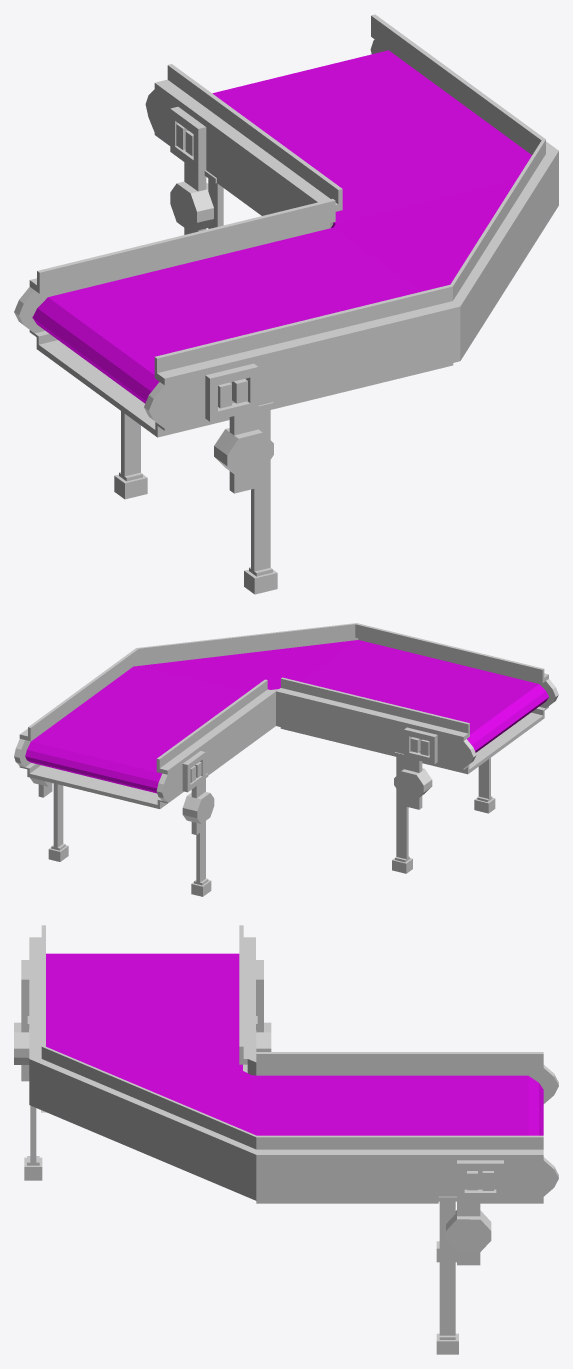
File: Cinta_02.fbx
3 views of the same model, one above another, from view 1: azimuth 30°, elevation 25°; view 2: azimuth 150°, elevation 25°; view 3: azimuth 270°, elevation 25° (orthographic). The views are drawn at different scales.
Parts seen in each view (by area): view 1: Cube.032, Cube.029; view 2: Cube.032, Cube.029; view 3: Cube.032, Cube.029.
Boxes of the visible parts, box(x1,y1,x2,y2) form: Cube.032: box(14, 14, 558, 594); Cube.029: box(32, 50, 531, 403); Cube.032: box(14, 623, 558, 896); Cube.029: box(25, 640, 548, 793); Cube.032: box(14, 925, 558, 1354); Cube.029: box(46, 953, 543, 1135).
Bounding box in the file's own units: 1130 × 481 × 1131.
